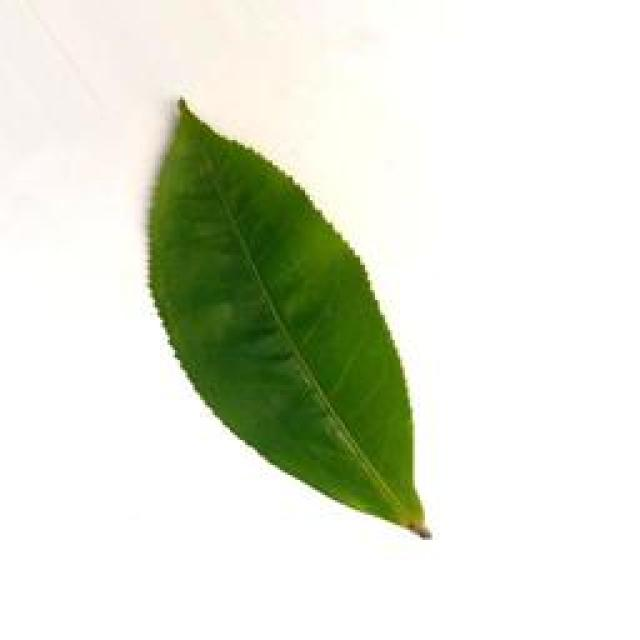Healthy: (134, 86, 457, 559)
